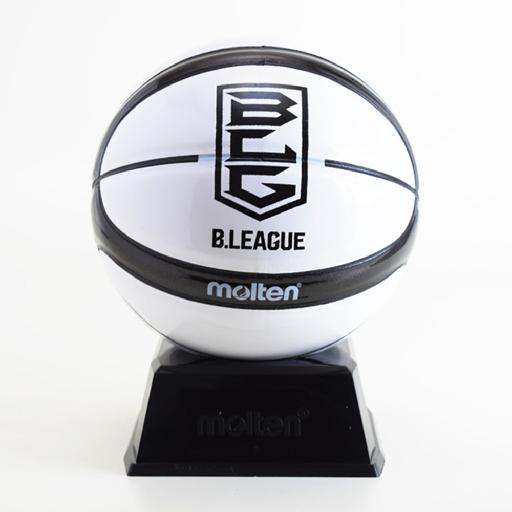ball: (92, 42, 420, 360)
